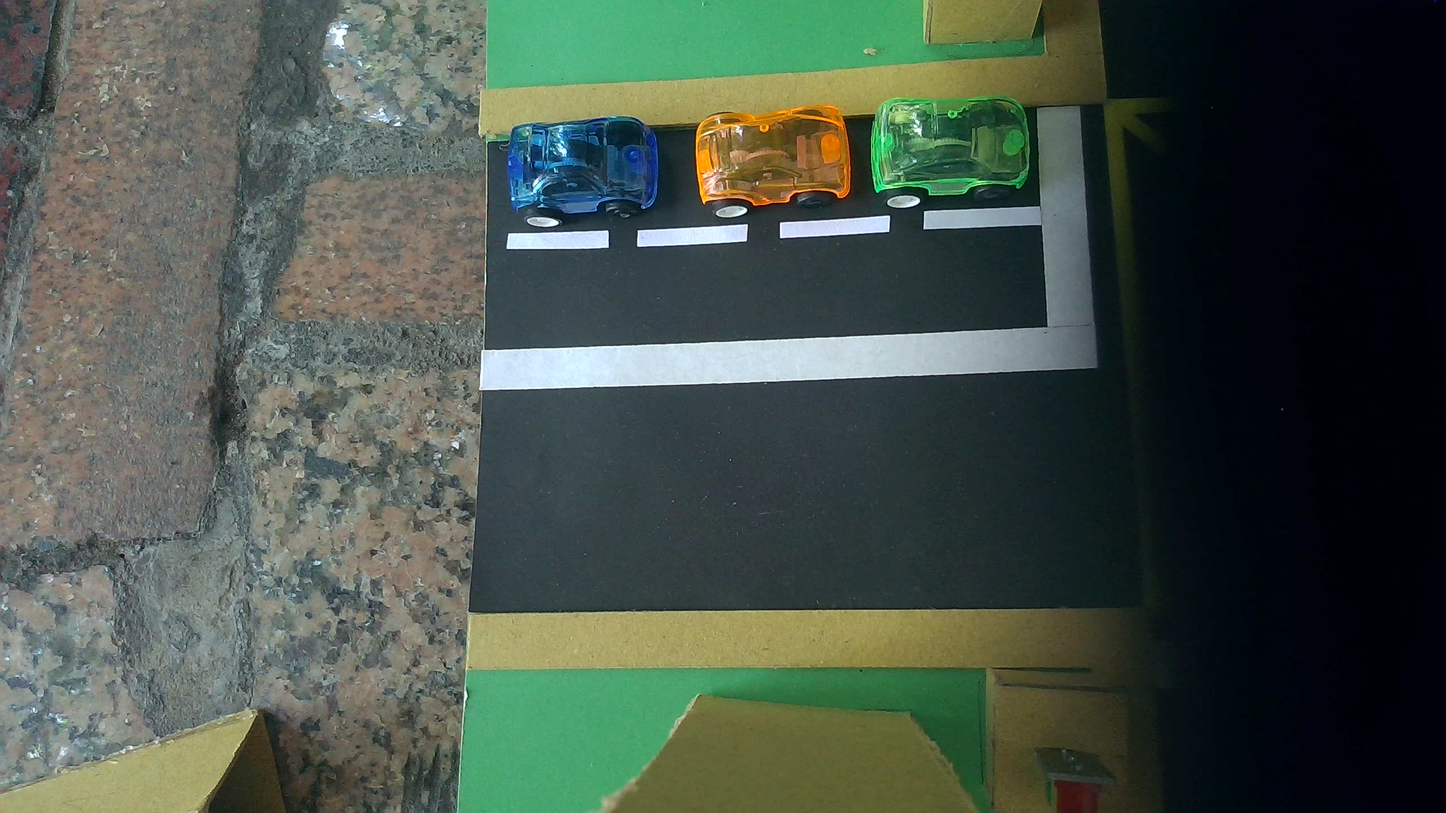Mobil biru: (506, 116, 659, 228)
Mobil hijau: (870, 97, 1030, 207)
Mobil orange: (694, 106, 852, 218)
